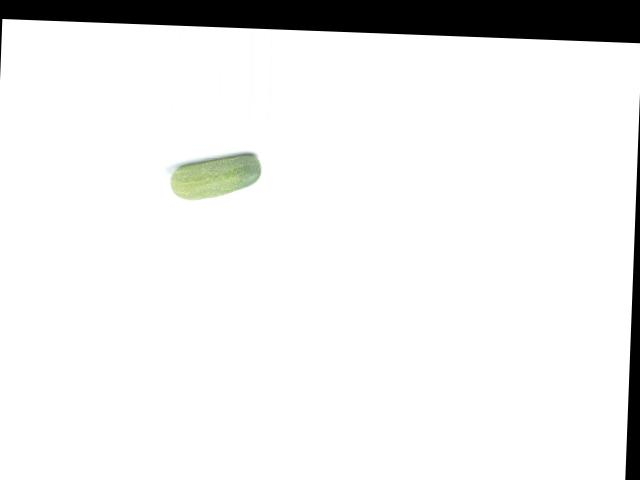cucumber: (170, 151, 261, 202)
